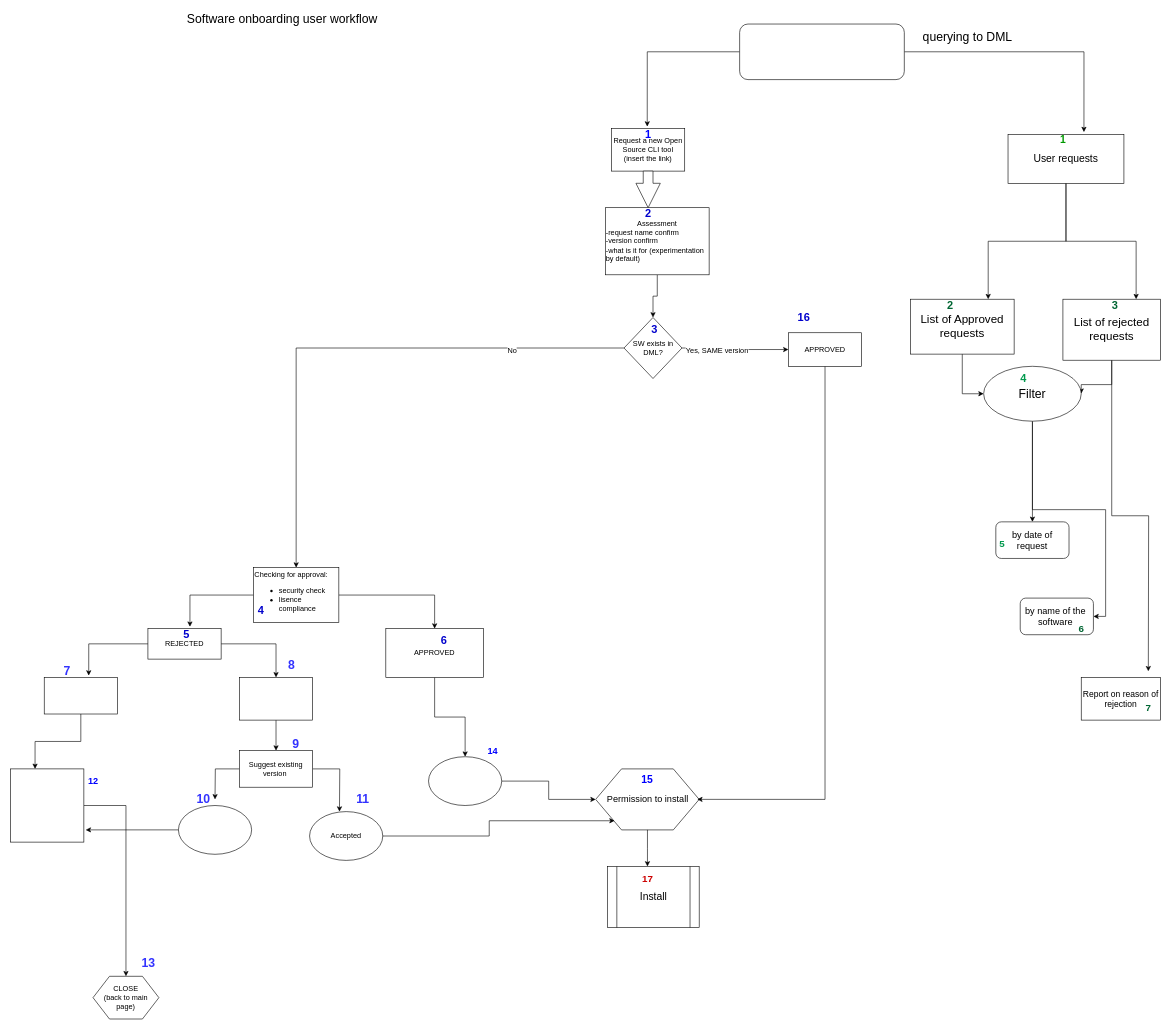
The diagram is 1171 pixels wide and 1030 high, and some of its shapes have lost their labels. The shapes that lost their labels are listed below. From the top down, each one's centre as x and y in pixels, then its label:
At point 821,51: "HOME PAGE".
At point 80,695: "Software didn't pass approval".
At point 276,698: "Version didn't pass approval".
At point 465,781: "Adding SW or version to DML".
At point 47,805: "Detailed report on reasons of rejection".
At point 215,829: "Not accepted".
